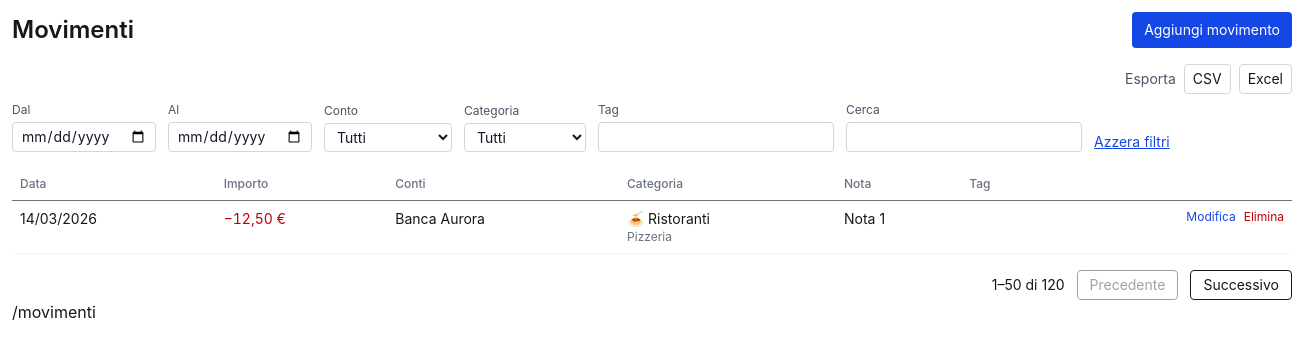
Scenario: paginates 50 rows at a time
Check: the text "1–50 di 120" is shown, box top-left (992, 275), bottom-right (1064, 295)
Check: the button "Precedente" is disabled, box top-left (1076, 270), bottom-right (1178, 300)
Click the button "Successivo" at coordinates (1241, 285), box top-left (1190, 270), bottom-right (1292, 300)
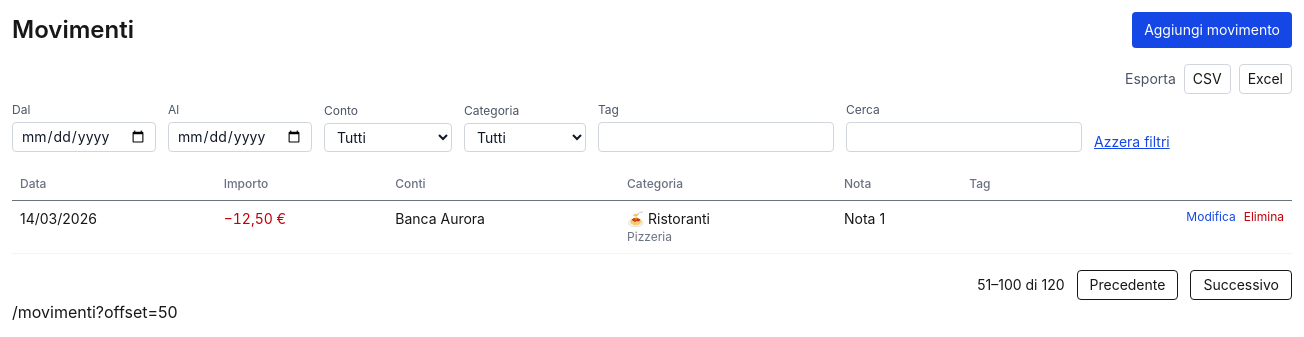
Check: the text "51–100 di 120" is shown, box top-left (977, 275), bottom-right (1064, 295)
Click the button "Successivo" at coordinates (1241, 285), box top-left (1190, 270), bottom-right (1292, 300)
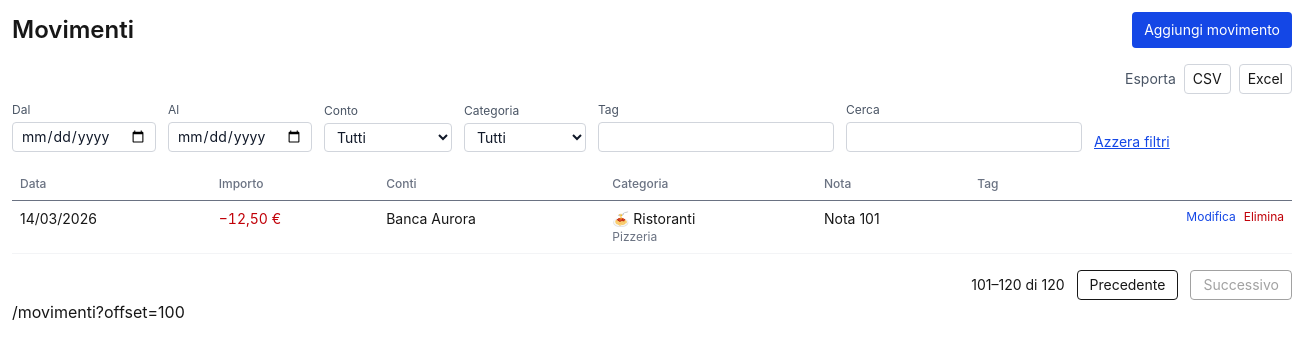
Check: the text "101–120 di 120" is shown, box top-left (971, 275), bottom-right (1064, 295)
Check: the button "Successivo" is disabled, box top-left (1190, 270), bottom-right (1292, 300)
